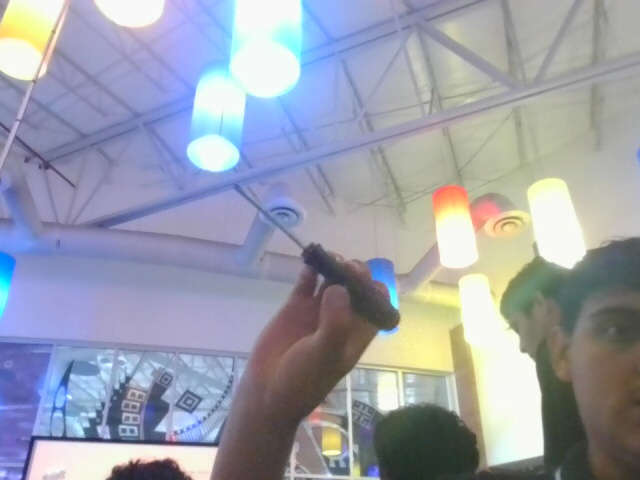destornillador: (241, 187, 396, 328)
